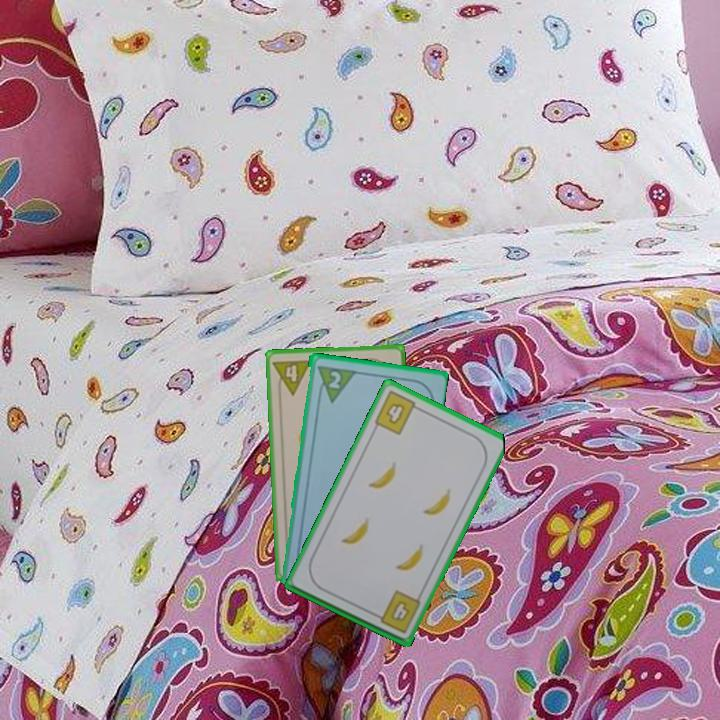2p: (313, 362, 357, 405)
4b: (371, 387, 424, 438), (370, 587, 423, 636)
4p: (270, 356, 314, 398)
